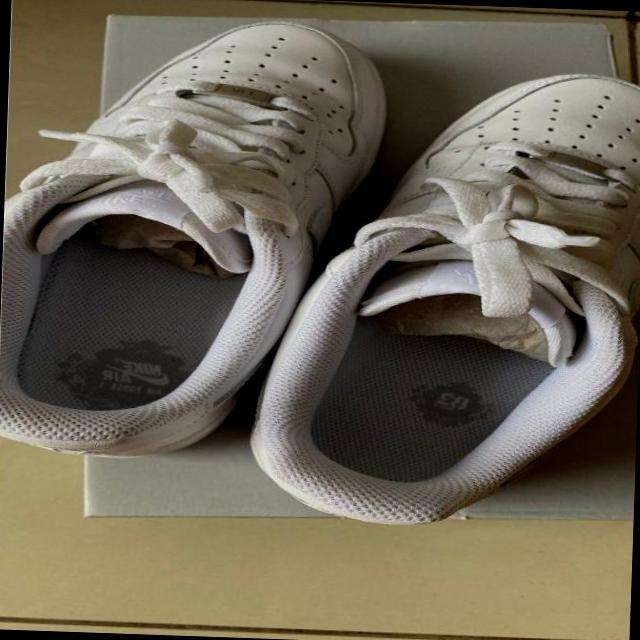nike_original_airforce: (243, 59, 640, 535), (0, 5, 393, 467)
